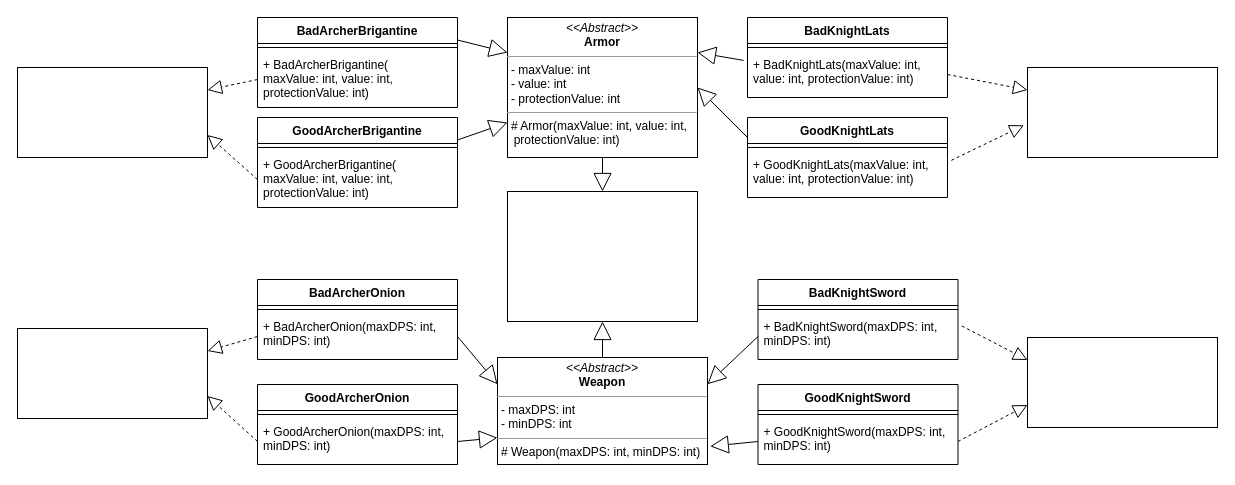
Some shapes in this 1235 by 485 pixel diagram are drawn without their labels. The centre of each missing label's shape, as x and y in pixels:
"<<Abstract>> Equipment - lvl: int # Equipment(lvl: int)" goes at (x=602, y=256).
"<<Interface>> Archer Armor" goes at (x=112, y=112).
"<<Interface>> ArcheWeapon" goes at (x=112, y=373).
"<<Interface>> Knight Weapon" goes at (x=1122, y=382).
"<<Interface>> KnightArmor" goes at (x=1122, y=112).
